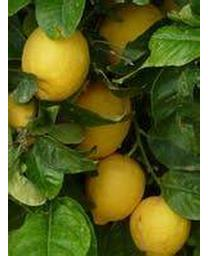lemon: (21, 25, 88, 100), (88, 154, 146, 225), (131, 196, 190, 255)
